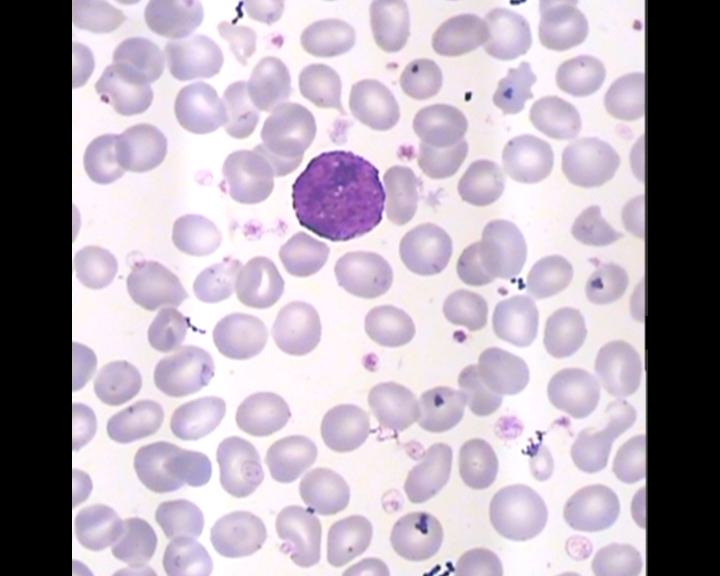baso: (288, 146, 393, 246)
